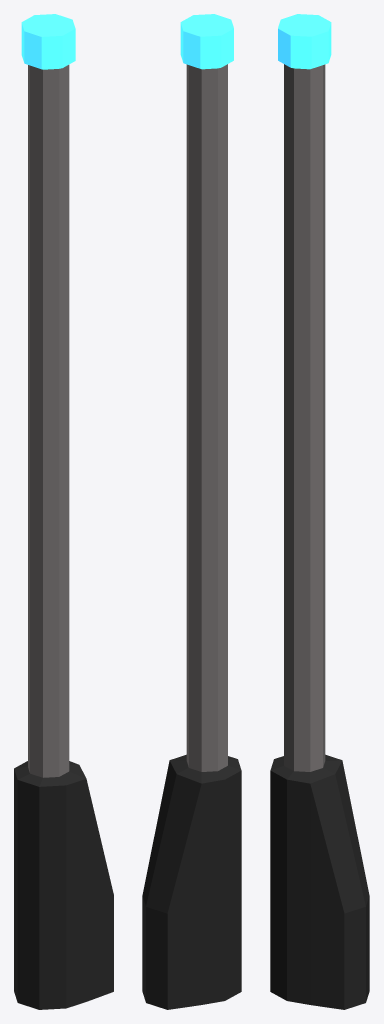
The model's file is scifi_scifi-lamp-high.fbx.
3 views of the same model, side by side, from view 1: azimuth 30°, elevation 25°; view 2: azimuth 210°, elevation 25°; view 3: azimuth 330°, elevation 25° (orthographic).
Parts seen in each view (by area): view 1: scifi_scifi_lamp_high; view 2: scifi_scifi_lamp_high; view 3: scifi_scifi_lamp_high.
Boxes of the visible parts, x1,y1,x2,y2 form: scifi_scifi_lamp_high: (14,14,113,1009); scifi_scifi_lamp_high: (142,14,241,1009); scifi_scifi_lamp_high: (270,14,369,1009).
Size of the model in its own units: 20 by 200 by 13.33.
